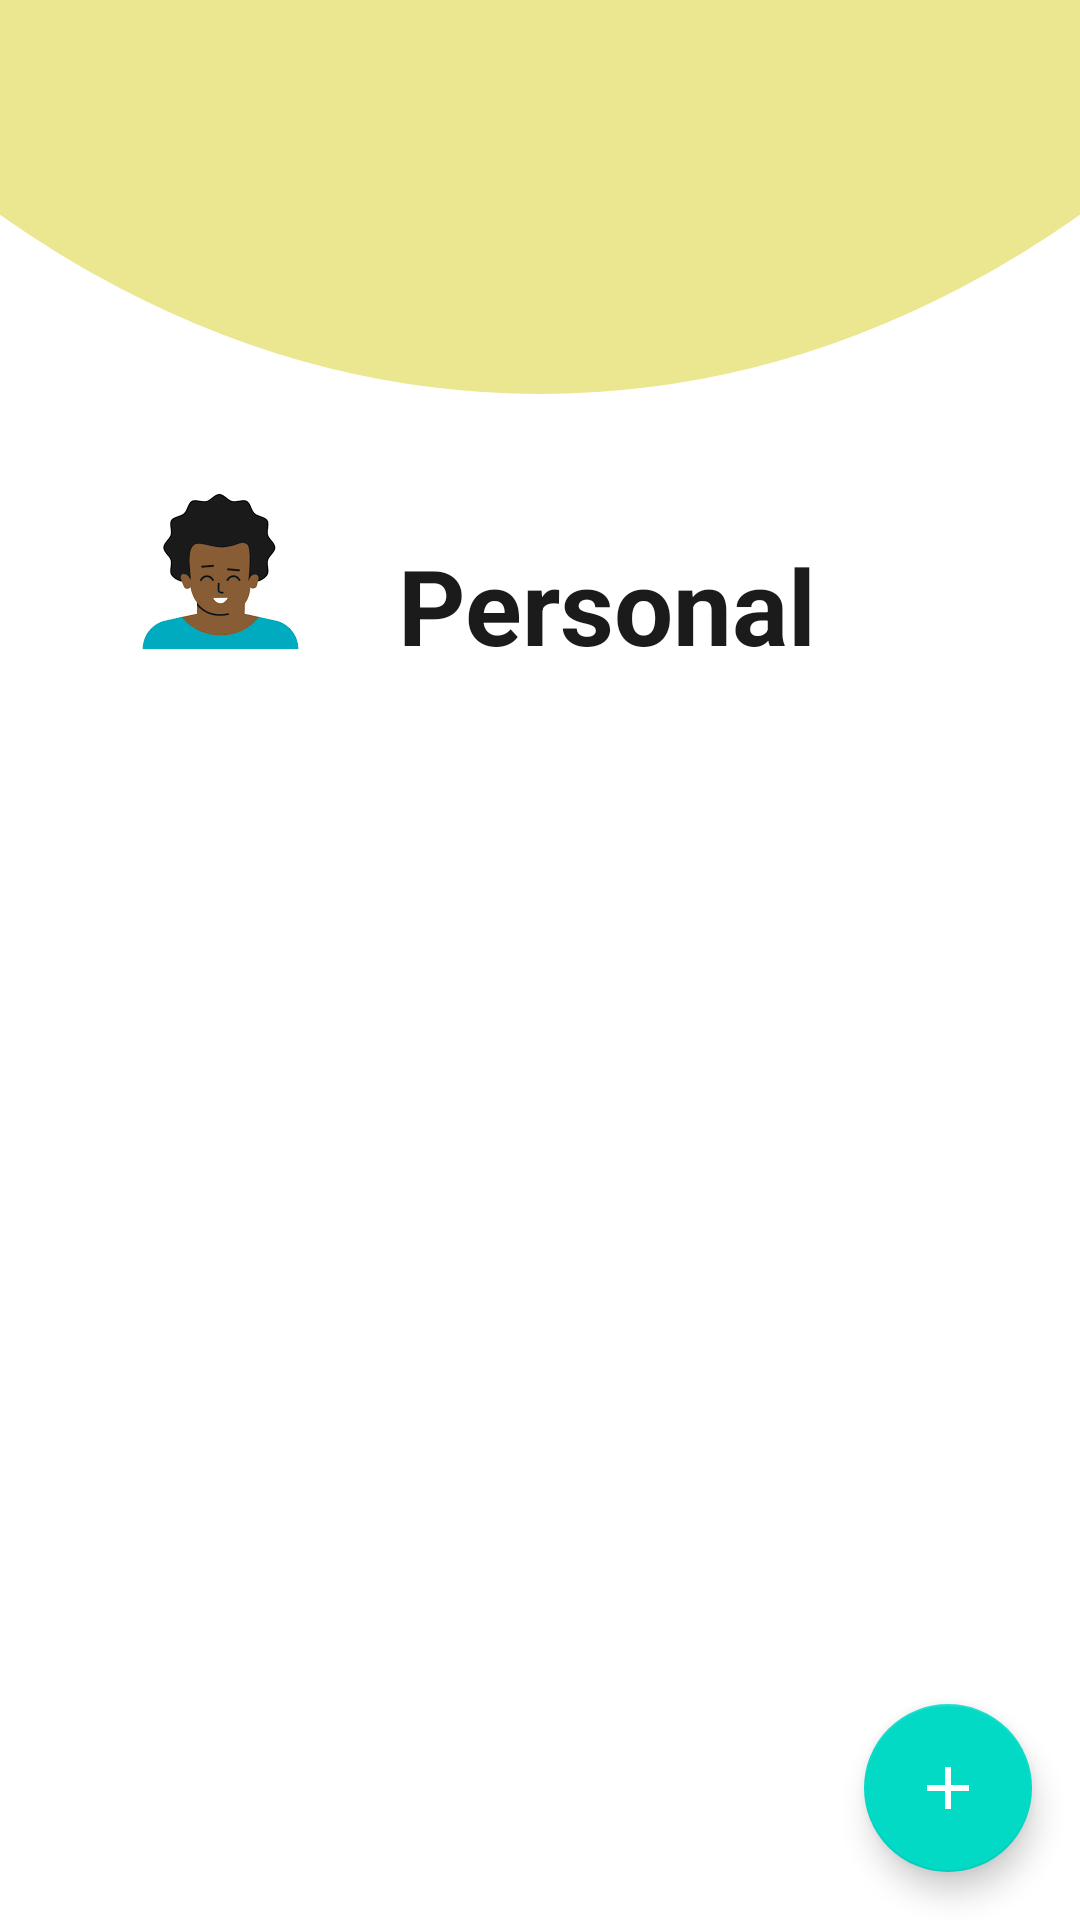

Icons on this 1080×1920 Android screen, each with the point to tap as (x,y):
Add task button: (948,1788)
blackboy: (220,571)
